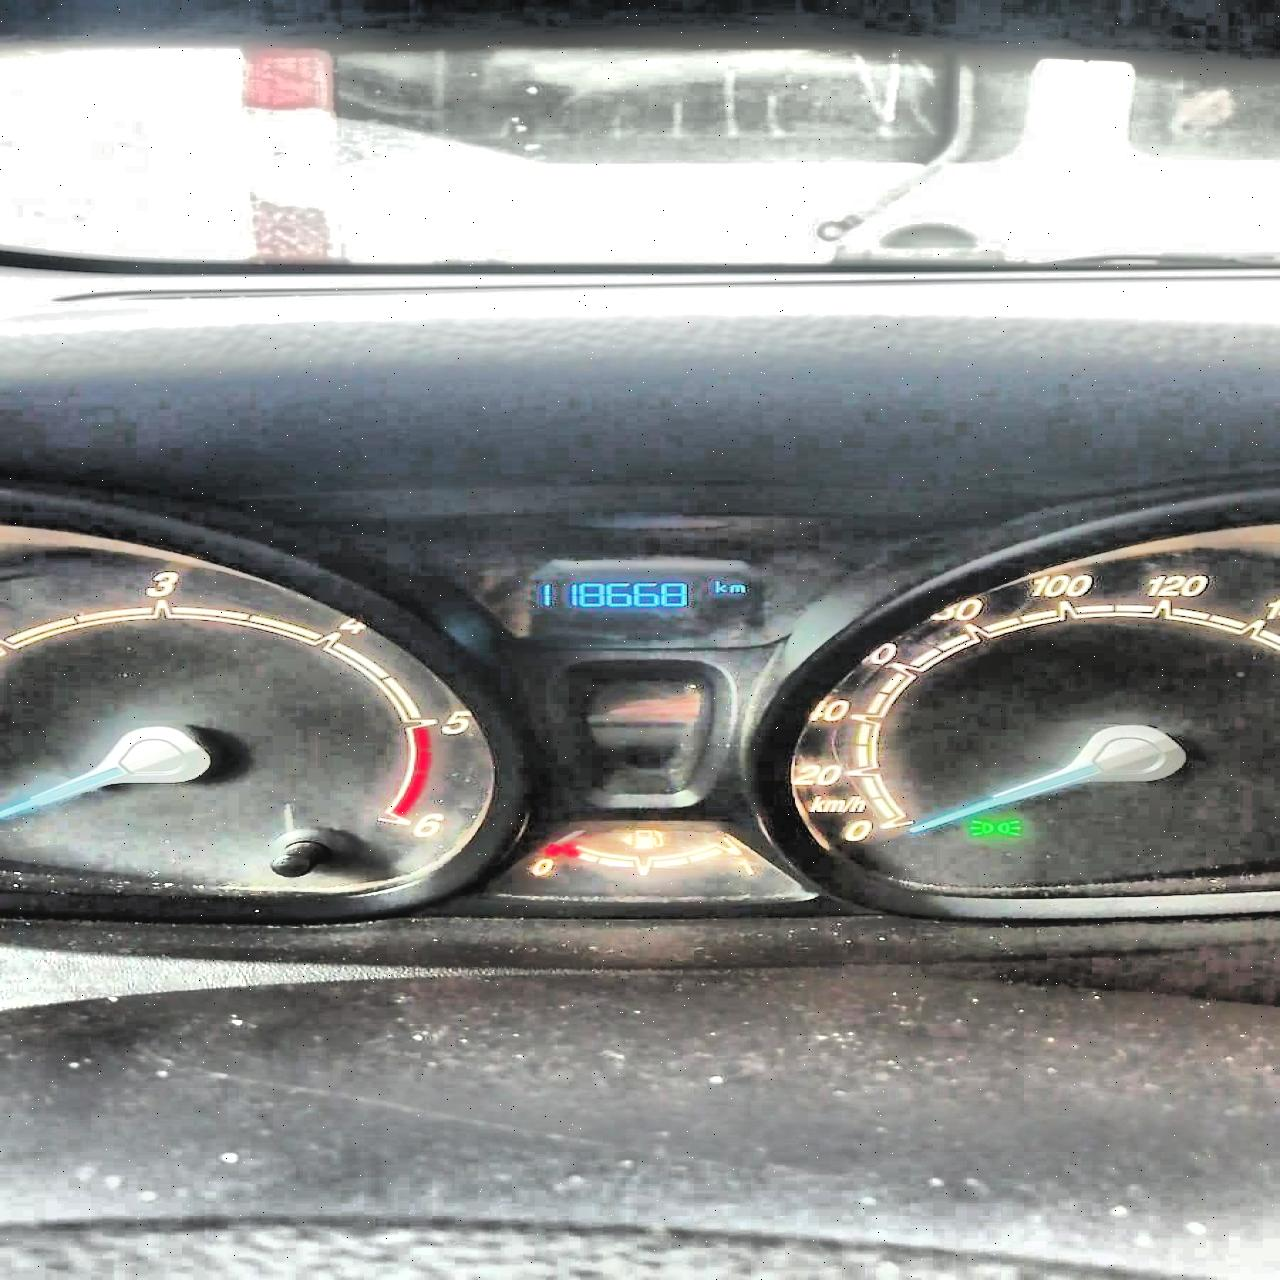1: (542, 584, 550, 605), (568, 584, 576, 606)
6: (605, 583, 632, 606), (632, 583, 659, 606)
8: (660, 581, 687, 606), (578, 583, 605, 606)
X: (728, 584, 745, 592), (714, 580, 726, 592)
odometer: (530, 564, 771, 639)
